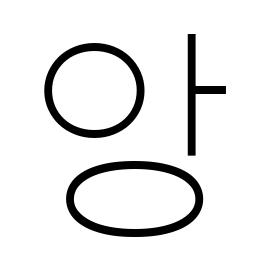Gaji: (173, 69, 217, 115)
